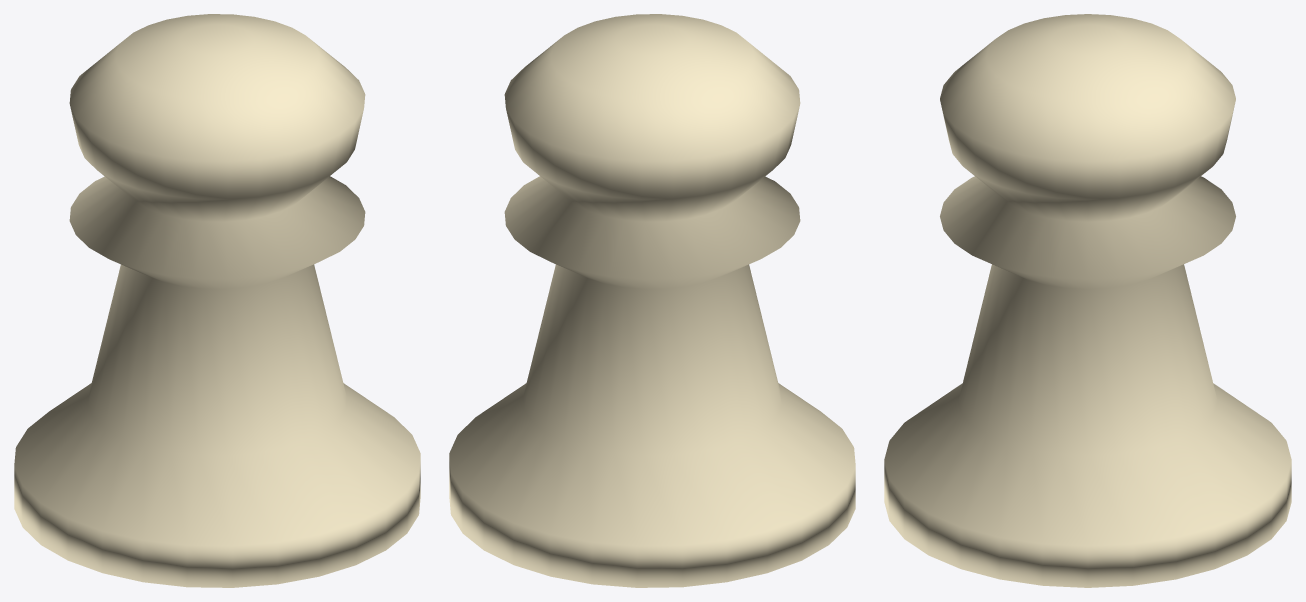
File: w-pawn.glb
The picture shows the model from 3 angles, left to right: view 1: azimuth 30°, elevation 25°; view 2: azimuth 150°, elevation 25°; view 3: azimuth 270°, elevation 25°; orthographic projection.
Parts seen in each view (by area): view 1: w-pawn; view 2: w-pawn; view 3: w-pawn.
Part boxes in pixels (x1,y1,x2,y2): w-pawn: [14, 14, 420, 587]; w-pawn: [449, 14, 855, 587]; w-pawn: [884, 14, 1291, 587].
Bounding box in the file's own units: 0.44 × 0.55 × 0.44.
